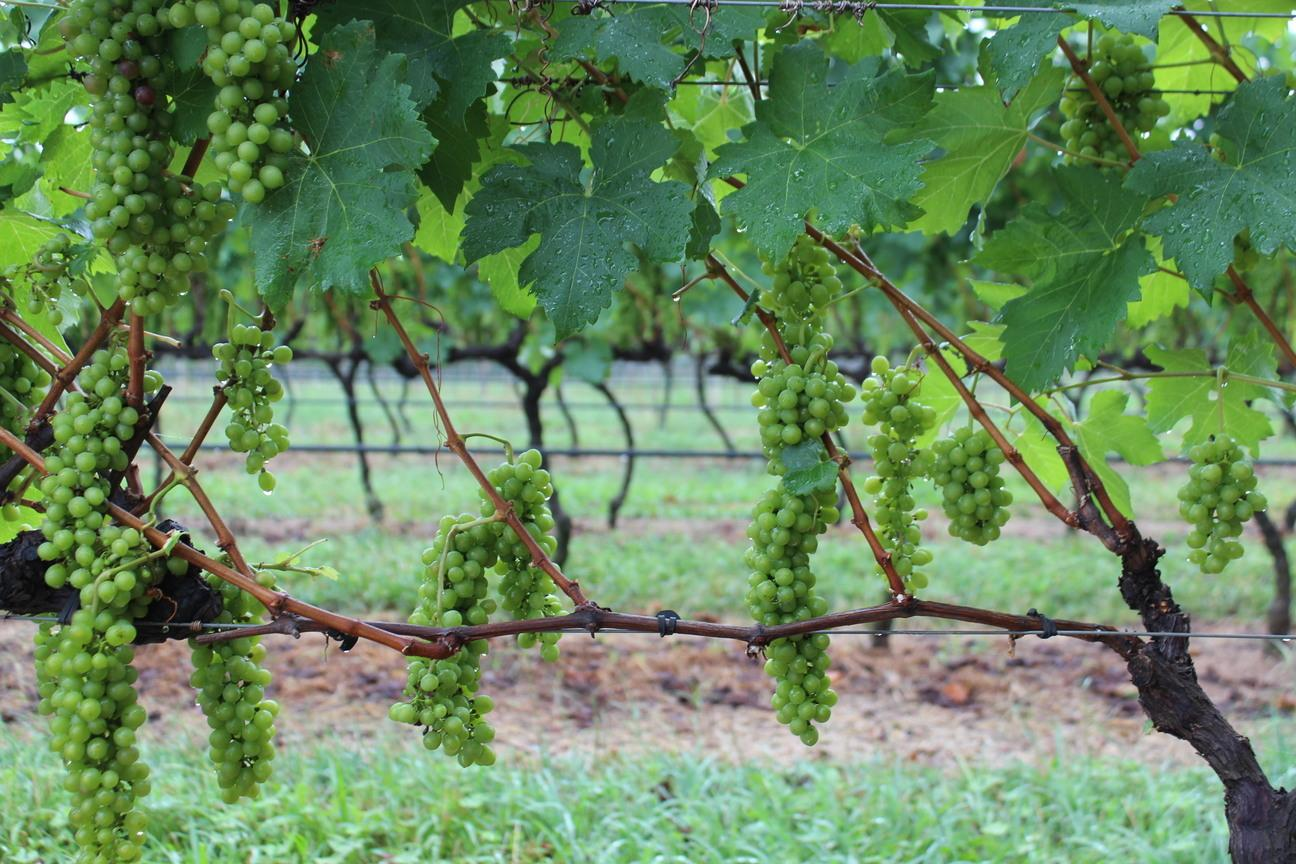leaf: (240, 21, 434, 306), (461, 117, 691, 337), (711, 41, 932, 256), (973, 167, 1153, 390), (1127, 75, 1295, 294), (904, 67, 1063, 233), (326, 0, 509, 121), (1146, 345, 1271, 450), (1071, 390, 1163, 514), (778, 437, 836, 494), (1227, 345, 1250, 364)
